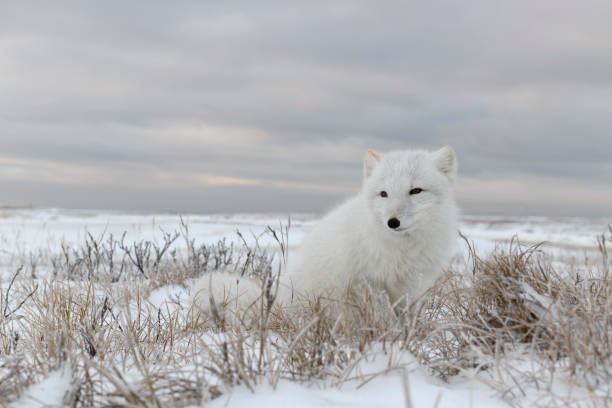arcticfox: (367, 170, 455, 254)
